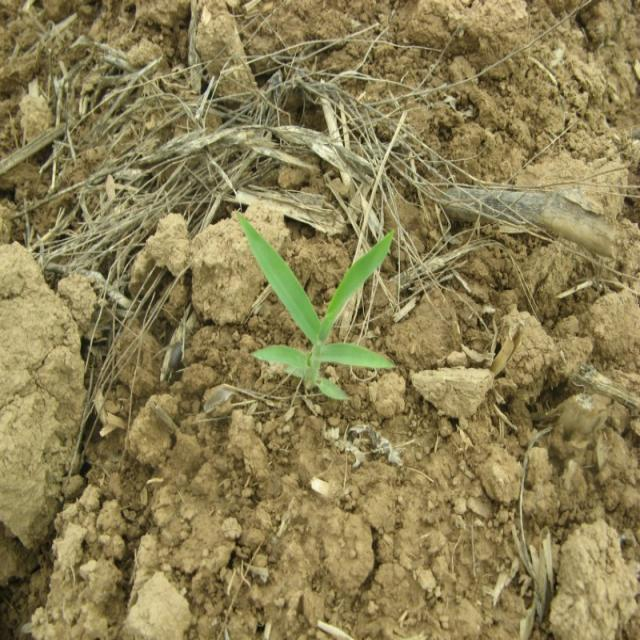bg: (234, 211, 396, 405)
